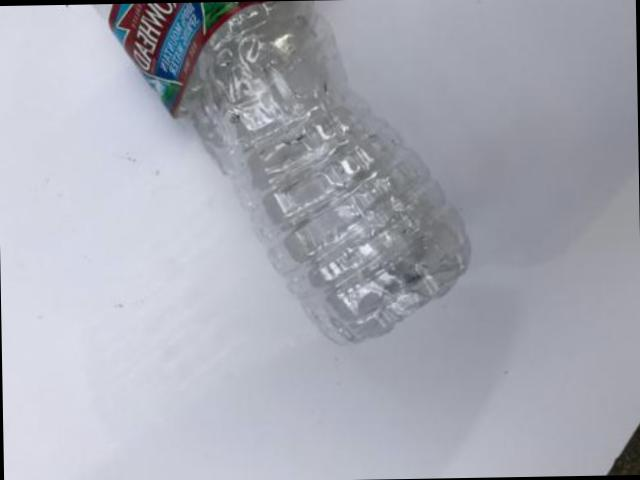plastic: (92, 0, 467, 345)
